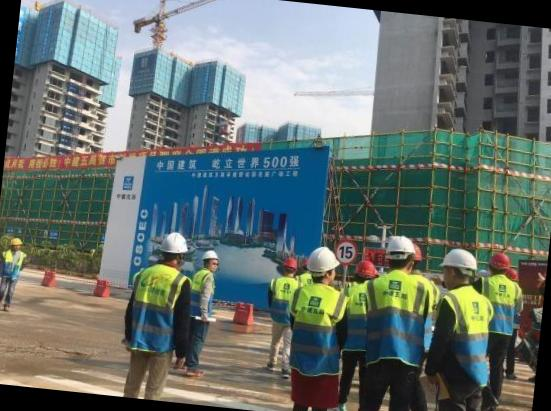Vest: (432, 285, 500, 388), (362, 267, 428, 364), (290, 280, 342, 378), (126, 262, 179, 352), (481, 274, 515, 336), (0, 248, 20, 285)
